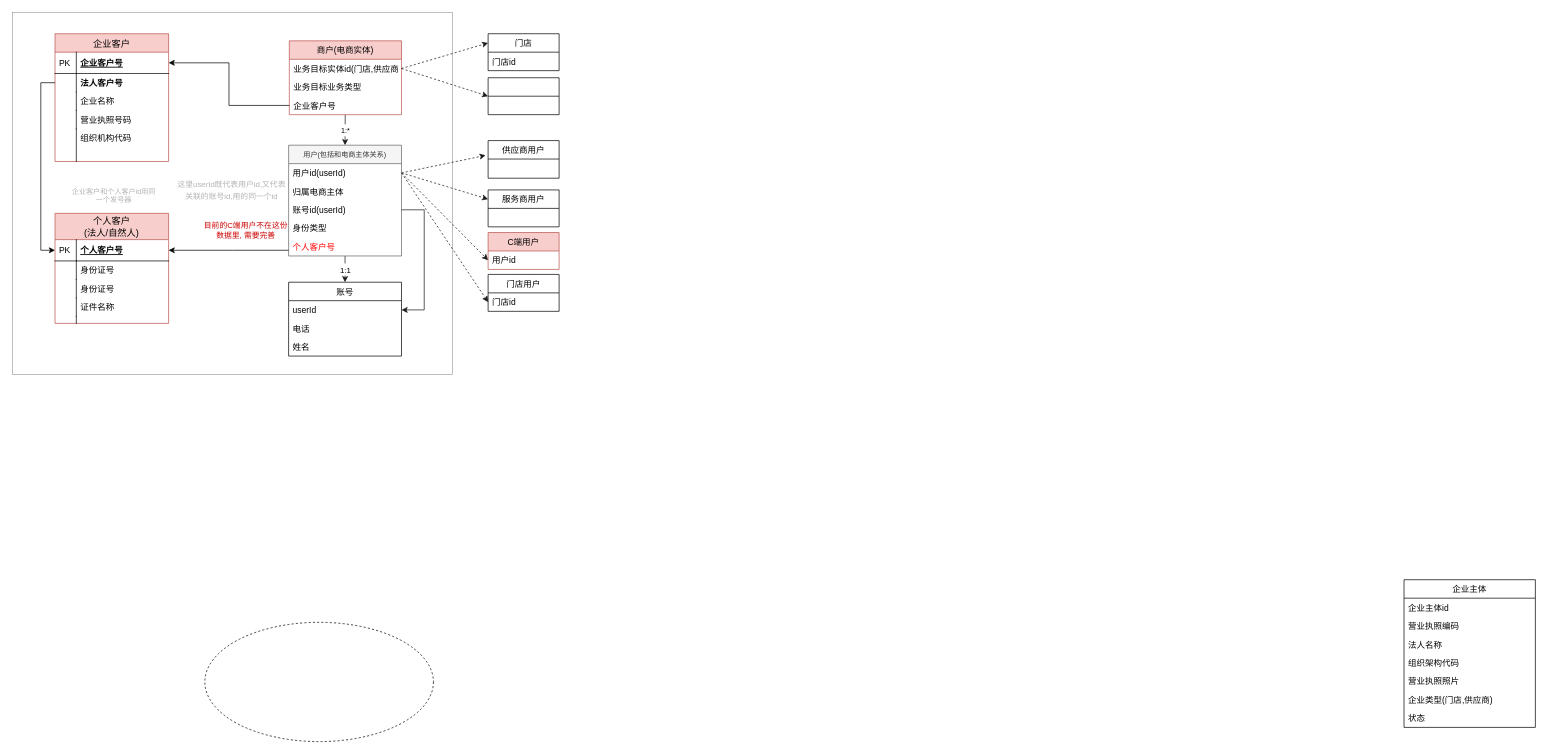
Image size: 1548x754. Some labels were removed from this diagram. The centre of each missing label's shape, as x and y in pixels:
"供应商" goes at point 523,96.
"用户域" goes at point 318,682.
